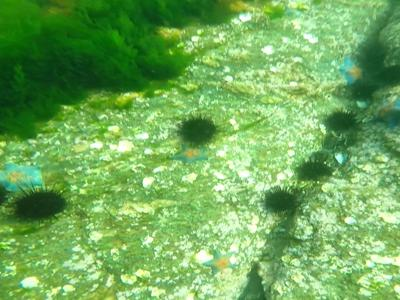scallop: (21, 277, 46, 289)
urchin: (9, 186, 66, 218), (179, 115, 217, 147), (263, 188, 297, 212), (296, 158, 332, 180), (326, 111, 360, 134)
